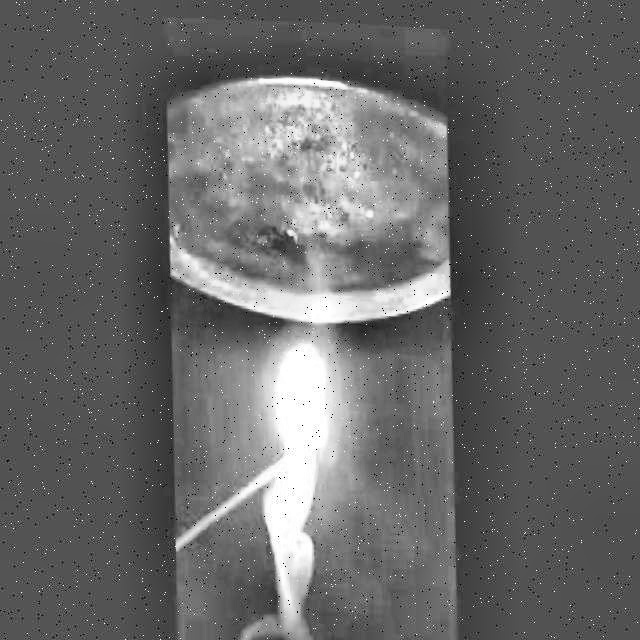Smoke: (256, 345, 336, 613)
